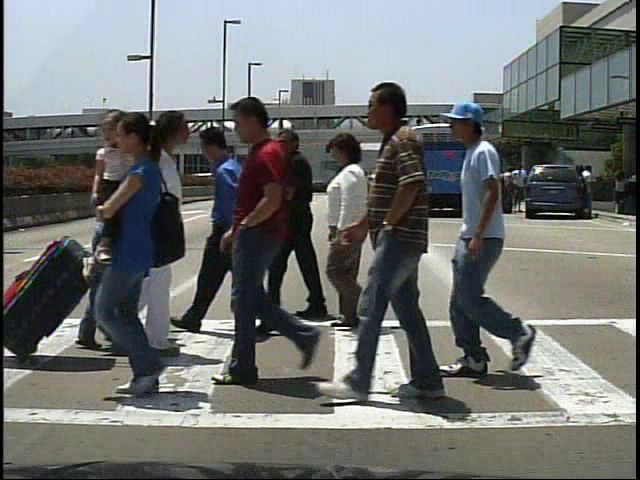person: (347, 84, 481, 423), (88, 111, 200, 371), (225, 93, 317, 386), (451, 102, 536, 380), (178, 123, 274, 346), (301, 135, 390, 333), (265, 128, 337, 322), (106, 116, 162, 361), (89, 193, 130, 332), (582, 166, 602, 218), (509, 165, 529, 215), (497, 166, 515, 218)
